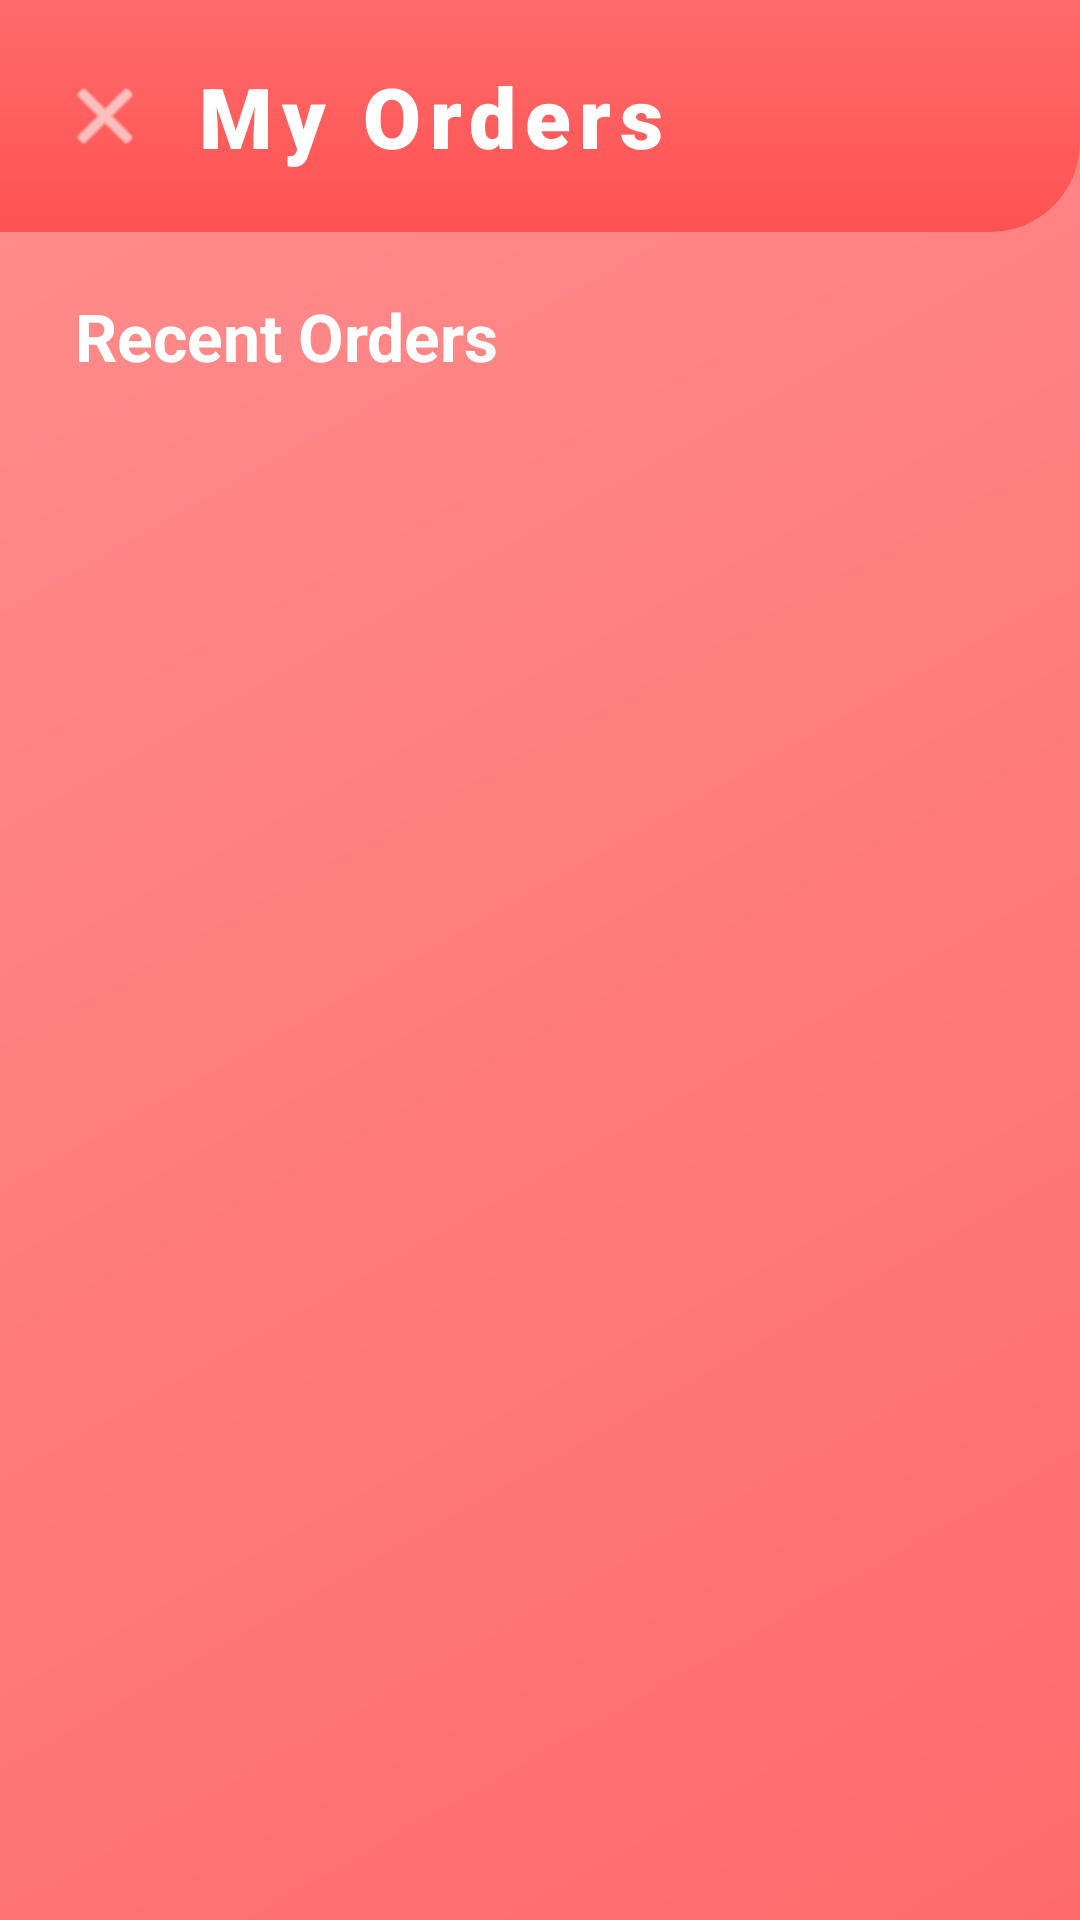

Icon bounding boxes for this 1080w x 1920h phone screenshot, format (x1=x1, y1=y1, x2=x2, y2=y2):
close clear cancel: (x1=77, y1=88, x2=133, y2=144)
